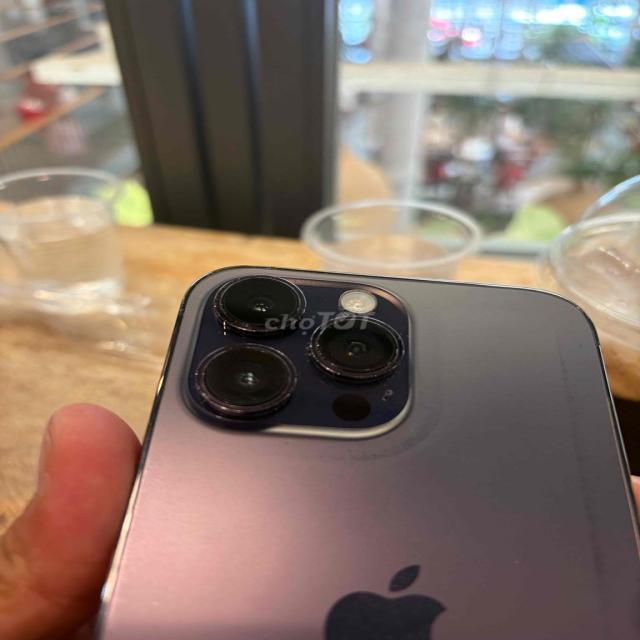gen_14: (94, 254, 640, 640)
scratch: (542, 292, 617, 586), (335, 403, 455, 469)
